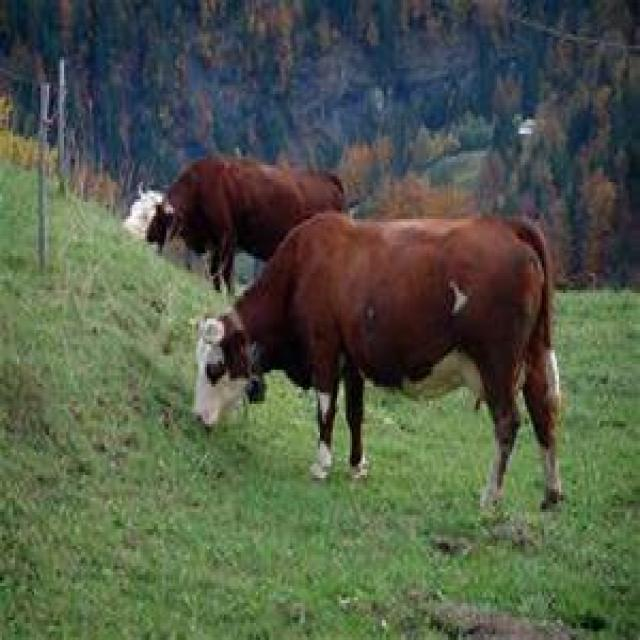cow: (163, 211, 636, 476)
